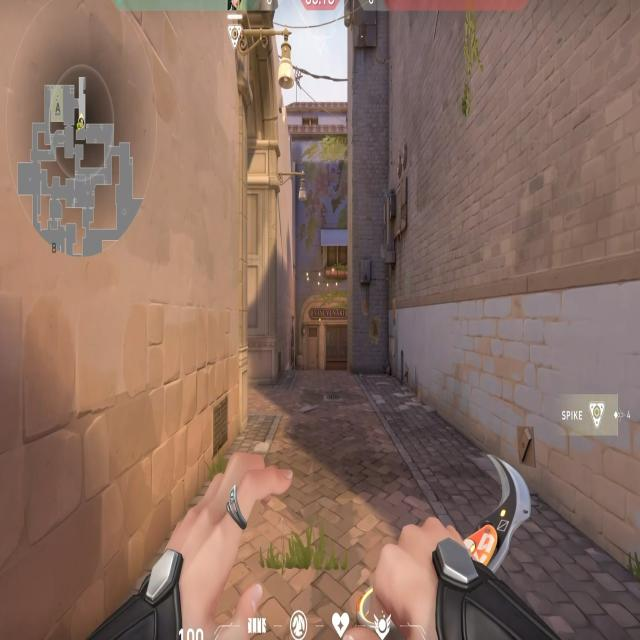Wine: (306, 254, 398, 376)
